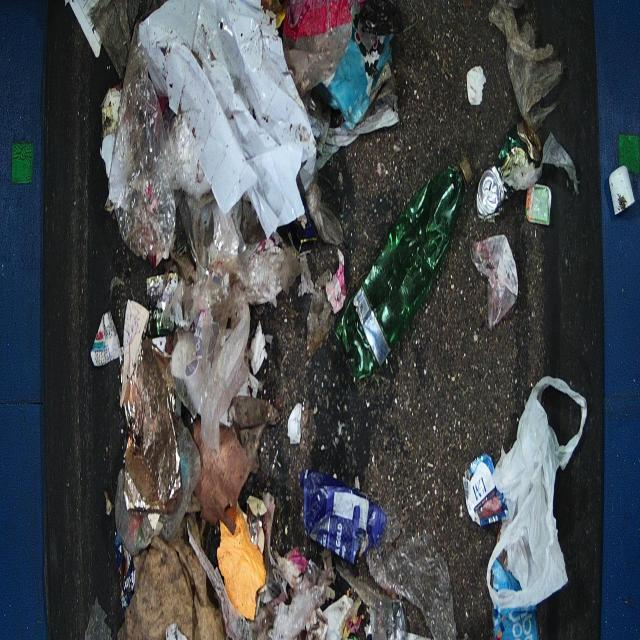cardboard: (46, 0, 609, 638)
other-trash: (331, 163, 466, 382)
